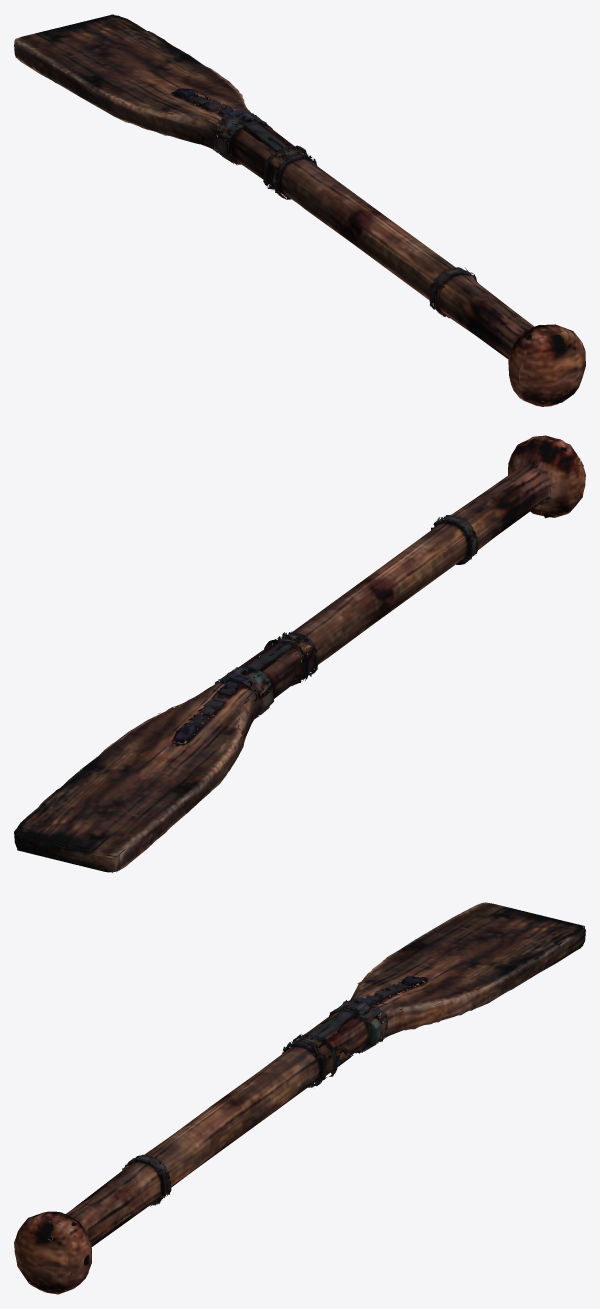
Rendered from wooden_oar.glb.
The picture shows the model from 3 angles, top to bottom: view 1: azimuth 30°, elevation 25°; view 2: azimuth 150°, elevation 25°; view 3: azimuth 330°, elevation 25°; orthographic projection.
Visible parts, largest first — view 1: wooden_oar_body; view 2: wooden_oar_body; view 3: wooden_oar_body.
Boxes of the visible parts, x1,y1,x2,y2 form: wooden_oar_body: (14, 14, 585, 406); wooden_oar_body: (14, 435, 585, 872); wooden_oar_body: (14, 902, 585, 1294).
Bounding box in the file's own units: 0.3585 × 0.2328 × 2.8.
1 material, 1 textured.
